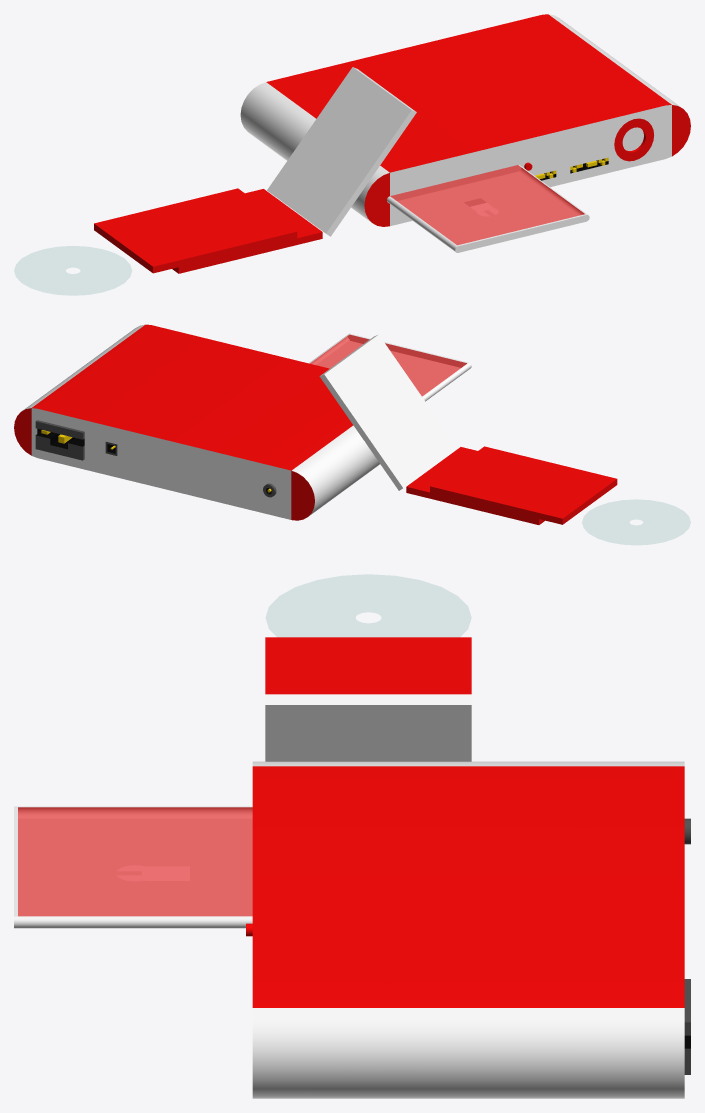
The model's file is RedBoxOne.fbx.
3 renders of one model, top to bottom at view 1: azimuth 30°, elevation 25°; view 2: azimuth 150°, elevation 25°; view 3: azimuth 270°, elevation 25°, orthographic. The views are drawn at different scales.
Parts seen in each view (by area): view 1: Model; view 2: Model; view 3: Model.
Part boxes in pixels (box(x1,y1,x2,y2)): Model: box(14, 14, 690, 295); Model: box(14, 324, 690, 545); Model: box(14, 574, 690, 1098).
Bounding box in the file's own units: 49.64 × 8 × 26.25.
